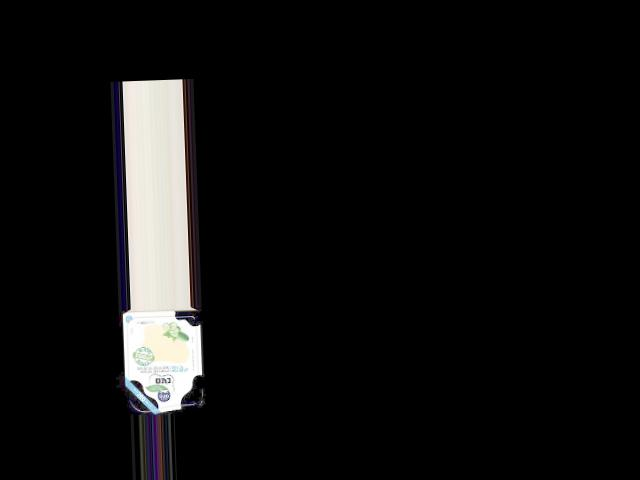cheese: (118, 306, 207, 413)
